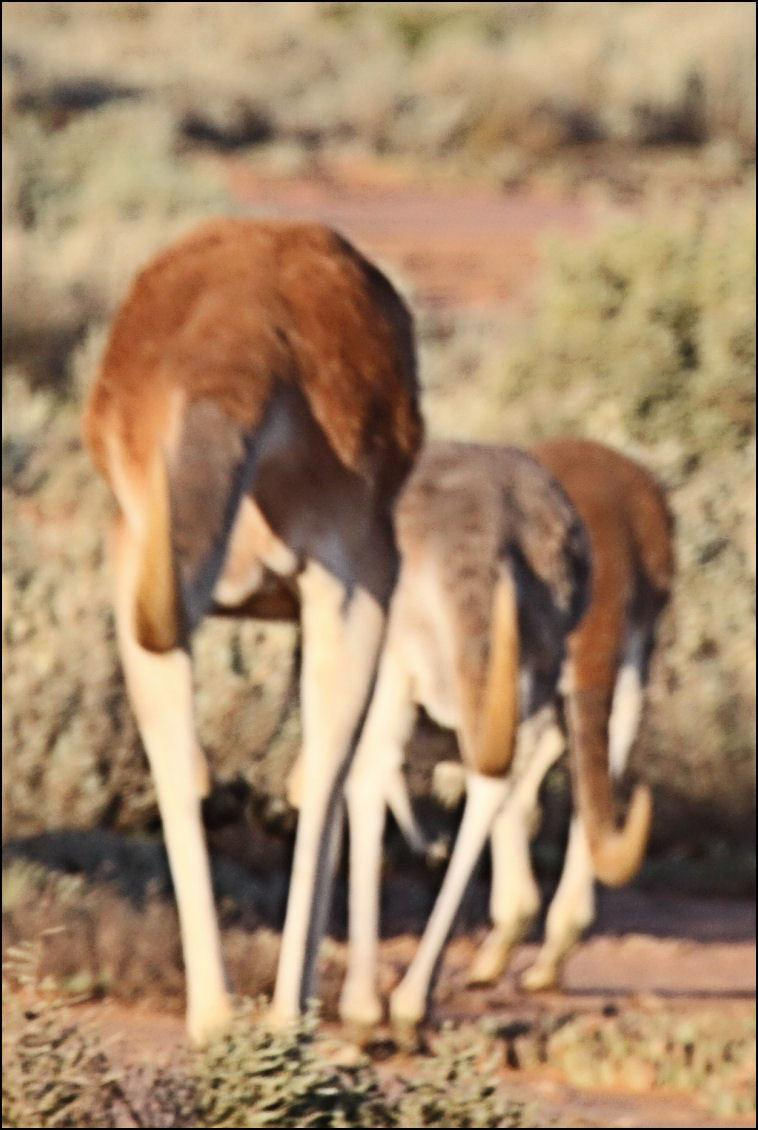Red kangaroo: (84, 220, 430, 1046), (334, 444, 596, 1032), (468, 438, 680, 992)
